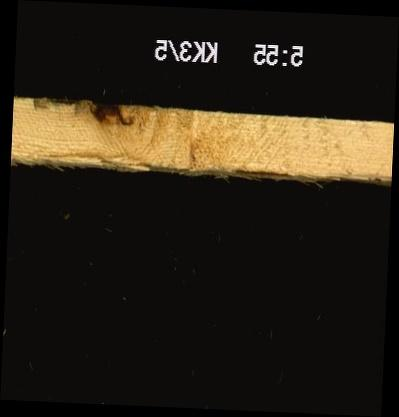edge_knot: (86, 101, 138, 129)
